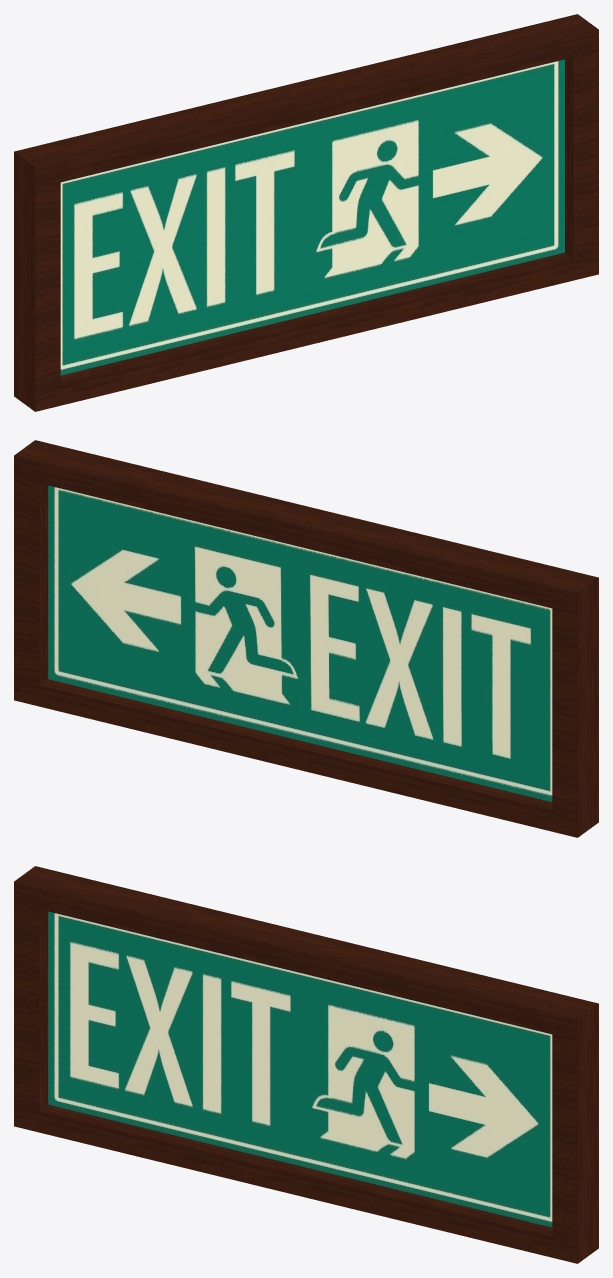
Rendered from low_poly_green_running_man_exit_sign.glb.
The picture shows the model from 3 angles, top to bottom: view 1: azimuth 30°, elevation 25°; view 2: azimuth 150°, elevation 25°; view 3: azimuth 330°, elevation 25°; orthographic projection.
Visible parts, largest first — view 1: exit-sign_Baked_0; view 2: exit-sign_Baked_0; view 3: exit-sign_Baked_0.
Part boxes in pixels (<box>): exit-sign_Baked_0: <box>14,14,598,411</box>; exit-sign_Baked_0: <box>14,440,598,837</box>; exit-sign_Baked_0: <box>14,866,598,1263</box>.
Size of the model in its own units: 2.44 by 1.01 by 0.1593.
1 material, 1 textured.
